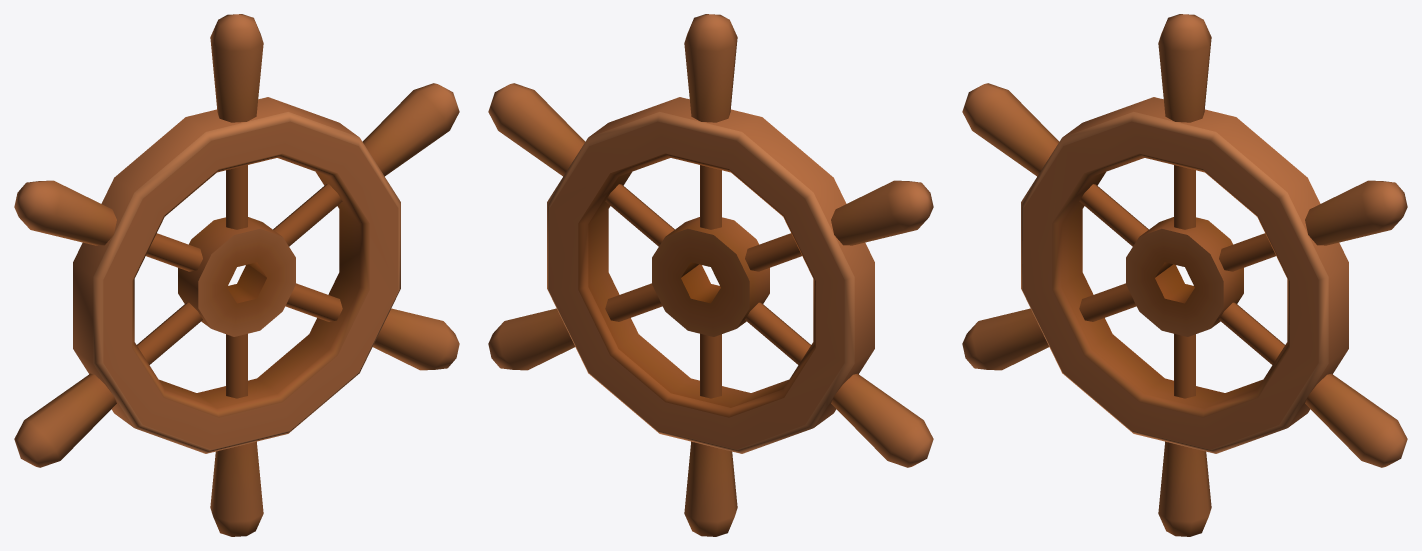
Rendered from steering_wheel.glb.
3 renders of one model, left to right at view 1: azimuth 30°, elevation 25°; view 2: azimuth 150°, elevation 25°; view 3: azimuth 330°, elevation 25°, orthographic.
Parts seen in each view (by area): view 1: steering2; view 2: steering2; view 3: steering2.
Boxes of the visible parts, x1,y1,x2,y2 form: steering2: (14, 14, 459, 536); steering2: (488, 14, 933, 536); steering2: (962, 14, 1407, 536).
Bounding box in the file's own units: 0.3324 × 0.38 × 0.0364.
1 material, 1 textured.
